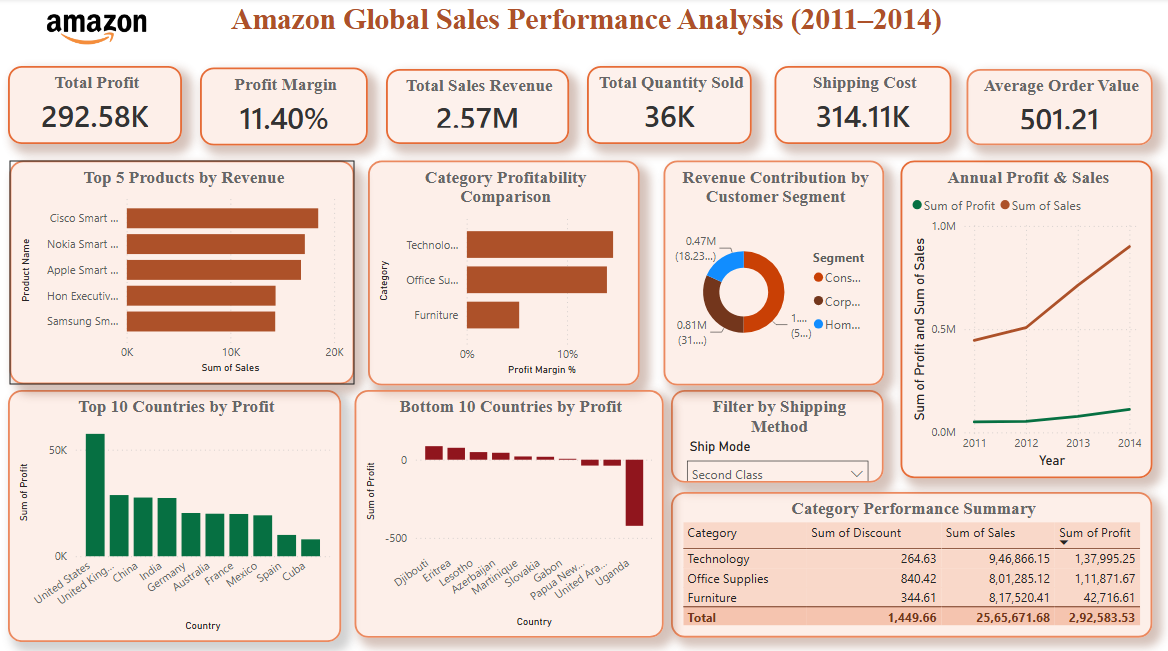

What the dashboard file says about the page in this screenshot:
{"tool":"powerbi","page":{"name":"Page 1","canvas":[1280,720],"ordinal":0},"visuals":[{"type":"textbox","box":[0,0,1280.1,63.4],"z":0},{"type":"cardVisual","title":"Profit Margin","fields":{"Data":["Orders.Profit Margin %"]},"box":[221.2,76.4,182.2,84.6],"z":1000},{"type":"cardVisual","title":"Total Profit","fields":{"Data":["Sum(Orders.Profit)"]},"box":[13,74.8,188.7,84.6],"z":2000},{"type":"cardVisual","title":"Total Quantity Sold","fields":{"Data":["Sum(Orders.Quantity)"]},"box":[640.9,74.8,178.9,84.6],"z":3000},{"type":"cardVisual","title":"Total Sales Revenue","fields":{"Data":["Sum(Orders.Sales)"]},"box":[422.9,78.1,198.4,81.3],"z":4000},{"type":"cardVisual","title":"Shipping Cost","fields":{"Data":["Sum(Orders.Shipping Cost)"]},"box":[844.2,74.8,191.9,84.6],"z":5000},{"type":"slicer","title":"Filter by Shipping Method","fields":{"Values":["Orders.Ship Mode"]},"box":[731.9,426.2,231,100.8],"z":6000},{"type":"clusteredBarChart","title":"Category Profitability Comparison","fields":{"Category":["Orders.Category"],"Y":["Orders.Profit Margin %"]},"box":[403.4,177.3,294.4,244],"z":7000},{"type":"tableEx","title":"Category Performance Summary","fields":{"Values":["Orders.Category","Sum(Orders.Discount)","Sum(Orders.Sales)","Sum(Orders.Profit)"]},"box":[731.9,536.8,522.1,157.8],"z":8000},{"type":"clusteredColumnChart","title":"Top 10 Countries by Profit","fields":{"Category":["Orders.Country"],"Y":["Sum(Orders.Profit)"]},"box":[13,426.2,361.1,273.3],"z":9000},{"type":"clusteredColumnChart","title":"Bottom 10 Countries by Profit","fields":{"Category":["Orders.Country"],"Y":["Sum(Orders.Profit)"]},"box":[388.7,426.2,335.1,268.4],"z":10000},{"type":"lineChart","title":"Annual Profit & Sales","fields":{"Category":["Orders.Order Date.Variation.Date Hierarchy.Year","Orders.Order Date.Variation.Date Hierarchy.Quarter","Orders.Order Date.Variation.Date Hierarchy.Month","Orders.Order Date.Variation.Date Hierarchy.Day"],"Y":["Sum(Orders.Profit)","Sum(Orders.Sales)"]},"box":[980.8,177.3,273.3,344.8],"z":11000},{"type":"clusteredBarChart","title":"Top 5 Products by Revenue","fields":{"Category":["Orders.Product Name"],"Y":["Sum(Orders.Sales)"]},"box":[14.6,177.3,374.1,242.4],"z":12000},{"type":"donutChart","title":"Revenue Contribution by Customer Segment","fields":{"Category":["Orders.Segment"],"Y":["Sum(Orders.Sales)"]},"box":[723.8,177.3,239.1,244],"z":13000},{"type":"cardVisual","title":"Average Order Value","fields":{"Data":["Orders.Average Order Value"]},"box":[1052.4,78.1,201.7,83],"z":14000},{"type":"image","box":[27.7,0,162.7,63.4],"z":15000}]}

Visuals, with their boxes in screenshot pixels (x1, y1, x2, y2), scaled from the page's 1280x720 canvas onto the 1168x651 screenshot:
textbox: 0/0/1167/57
"Profit Margin" cardVisual: 202/69/368/146
"Total Profit" cardVisual: 12/68/184/144
"Total Quantity Sold" cardVisual: 585/68/748/144
"Total Sales Revenue" cardVisual: 386/71/567/144
"Shipping Cost" cardVisual: 770/68/945/144
"Filter by Shipping Method" slicer: 668/385/879/476
"Category Profitability Comparison" clusteredBarChart: 368/160/637/381
"Category Performance Summary" tableEx: 668/485/1144/628
"Top 10 Countries by Profit" clusteredColumnChart: 12/385/341/632
"Bottom 10 Countries by Profit" clusteredColumnChart: 355/385/660/628
"Annual Profit & Sales" lineChart: 895/160/1144/472
"Top 5 Products by Revenue" clusteredBarChart: 13/160/355/379
"Revenue Contribution by Customer Segment" donutChart: 660/160/879/381
"Average Order Value" cardVisual: 960/71/1144/146
image: 25/0/174/57
